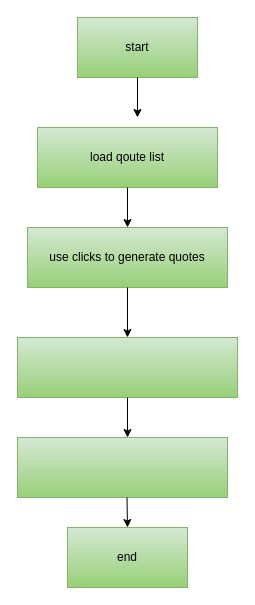
Image size: 255x605. Some labels were removed from this diagram. Here are the shapes that lost their labels. From the top down, the centre of each, then its label:
(x=127, y=367): select rando from list
(x=122, y=467): display quote on screen
